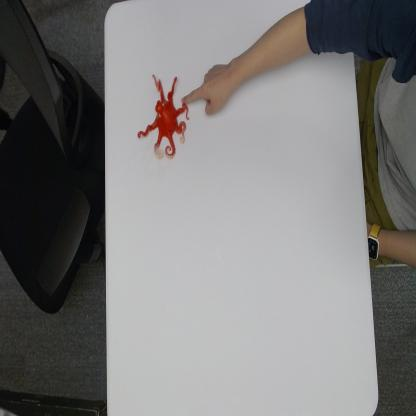Arm: (233, 0, 360, 80)
Hand: (181, 60, 239, 118)
Octopus: (137, 72, 191, 160)
